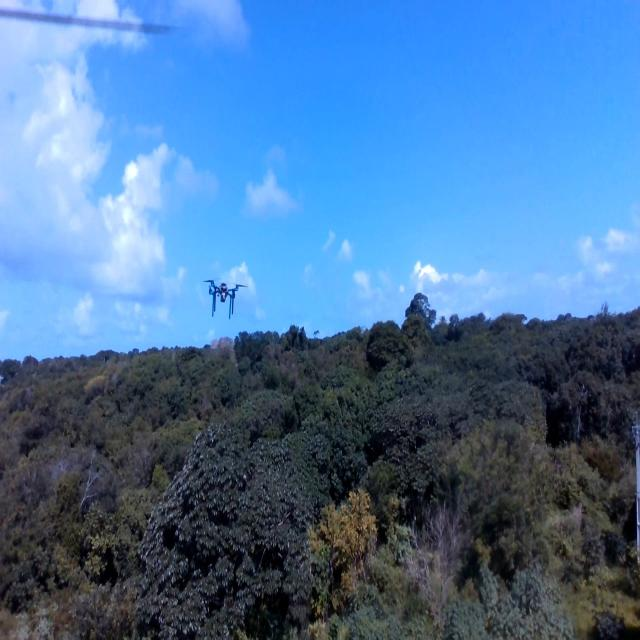-uav-: (201, 270, 247, 326)
